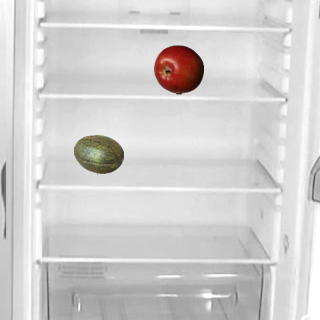Apple Braeburn: (153, 44, 203, 94)
Melon Piel de Sapo: (73, 129, 123, 179)
